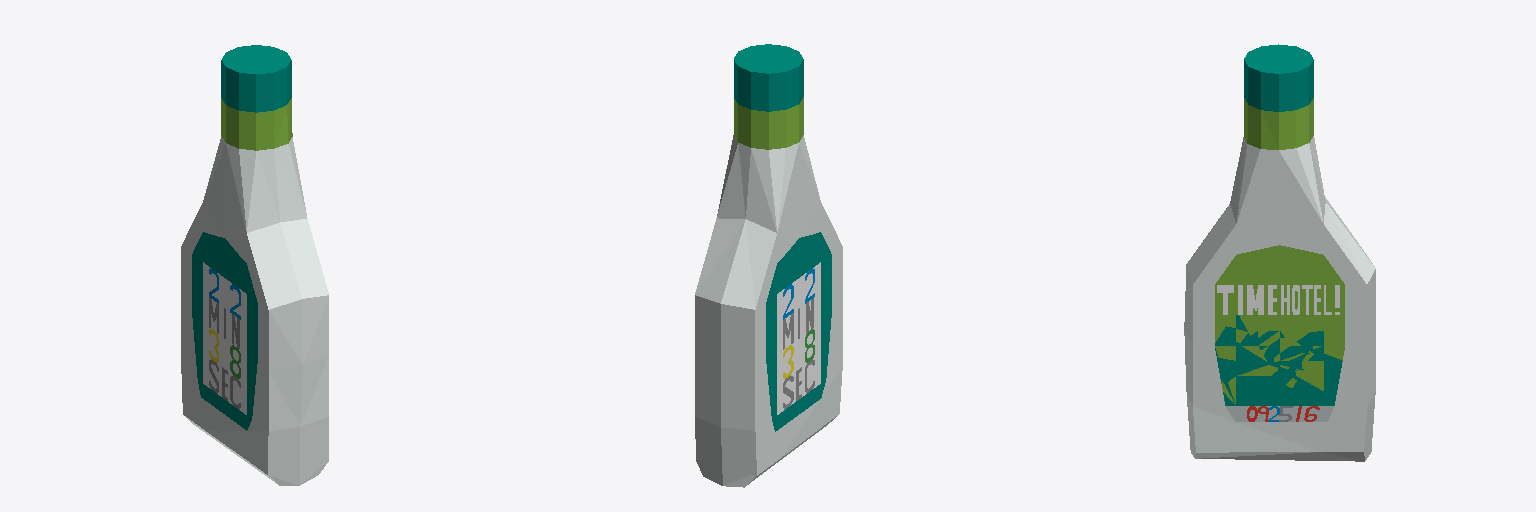
The picture shows the model from 3 angles: view 1: azimuth 30°, elevation 25°; view 2: azimuth 150°, elevation 25°; view 3: azimuth 270°, elevation 25°; orthographic projection.
Parts seen in each view (by area): view 1: group[number redacted], group[number redacted]; view 2: group[number redacted], group[number redacted]; view 3: group[number redacted], group[number redacted].
Part boxes in pixels (bbox=[...]): group[number redacted]: bbox=[181, 136, 328, 485]; group[number redacted]: bbox=[221, 45, 292, 150]; group[number redacted]: bbox=[695, 135, 842, 487]; group[number redacted]: bbox=[734, 44, 803, 149]; group[number redacted]: bbox=[1184, 136, 1375, 461]; group[number redacted]: bbox=[1244, 44, 1313, 149].
Size of the model in its own units: 0.4913 by 2.97 by 1.31.